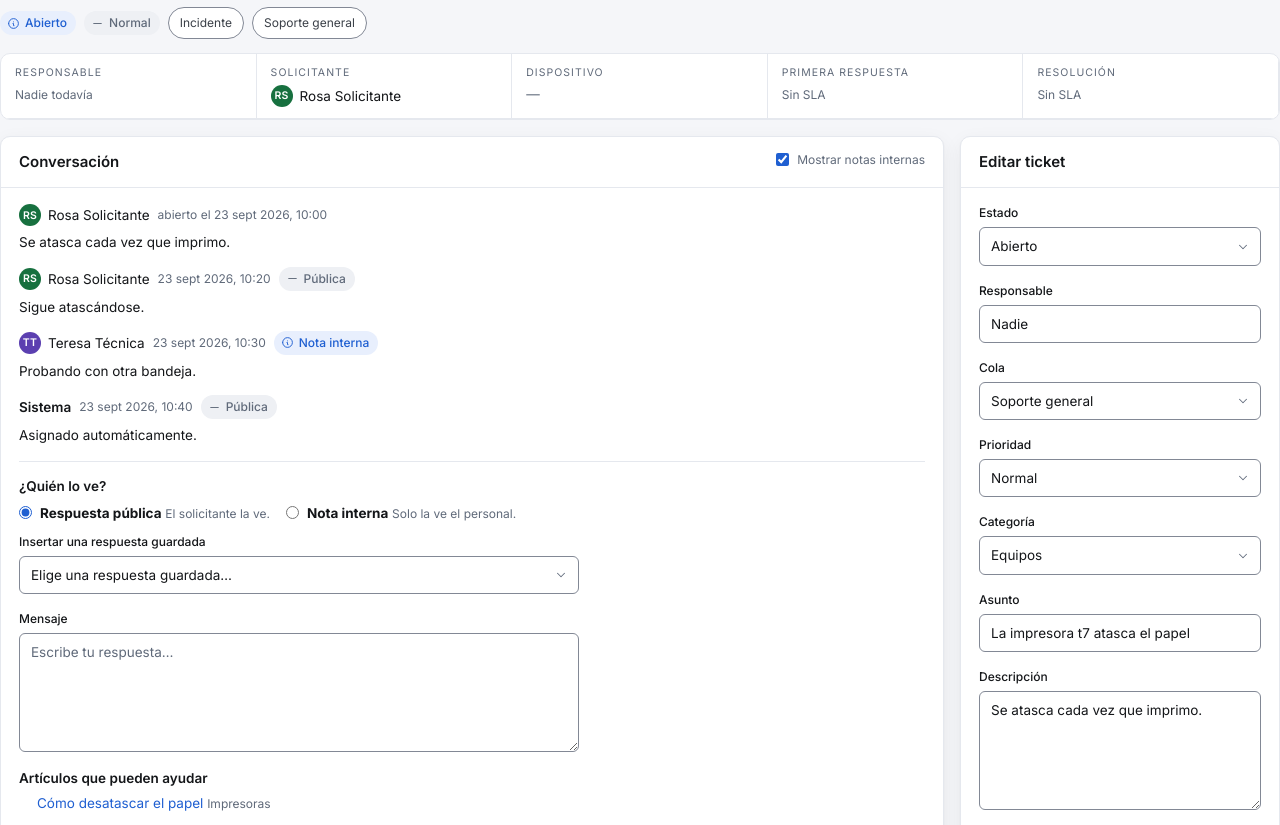
Scenario: a ticket's page in Spanish › words the close confirmation as reversible
The width and height of the screenshot is (1280, 825).
Expected: the heading "Editar ticket" is shown, top-left (979, 151), bottom-right (1065, 173)
Select "Cerrado" in the dropdown labelled "Estado". click: x=1120, y=247
box: top-left (979, 227), bottom-right (1261, 266)
(page scrolled)
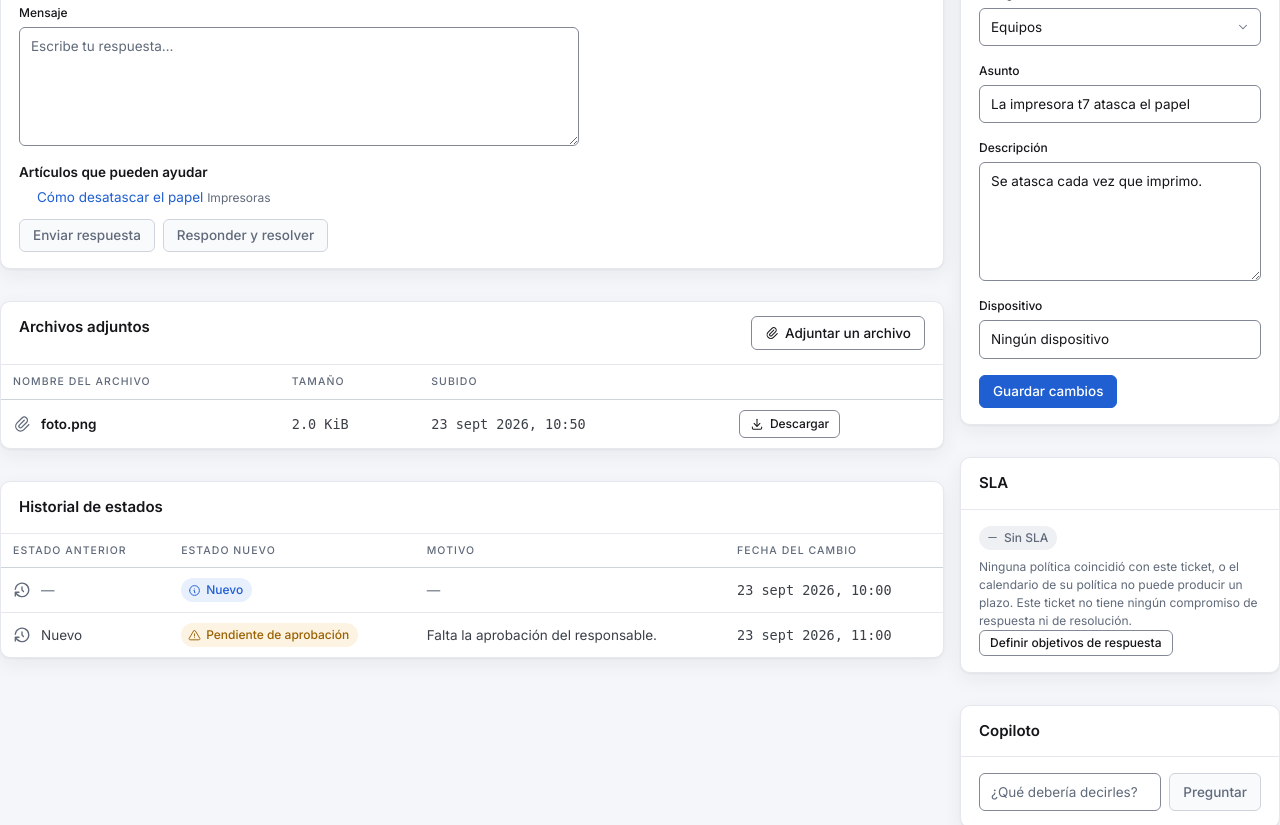
Click the button "Guardar cambios". click: x=1048, y=391
box: top-left (979, 375), bottom-right (1117, 408)
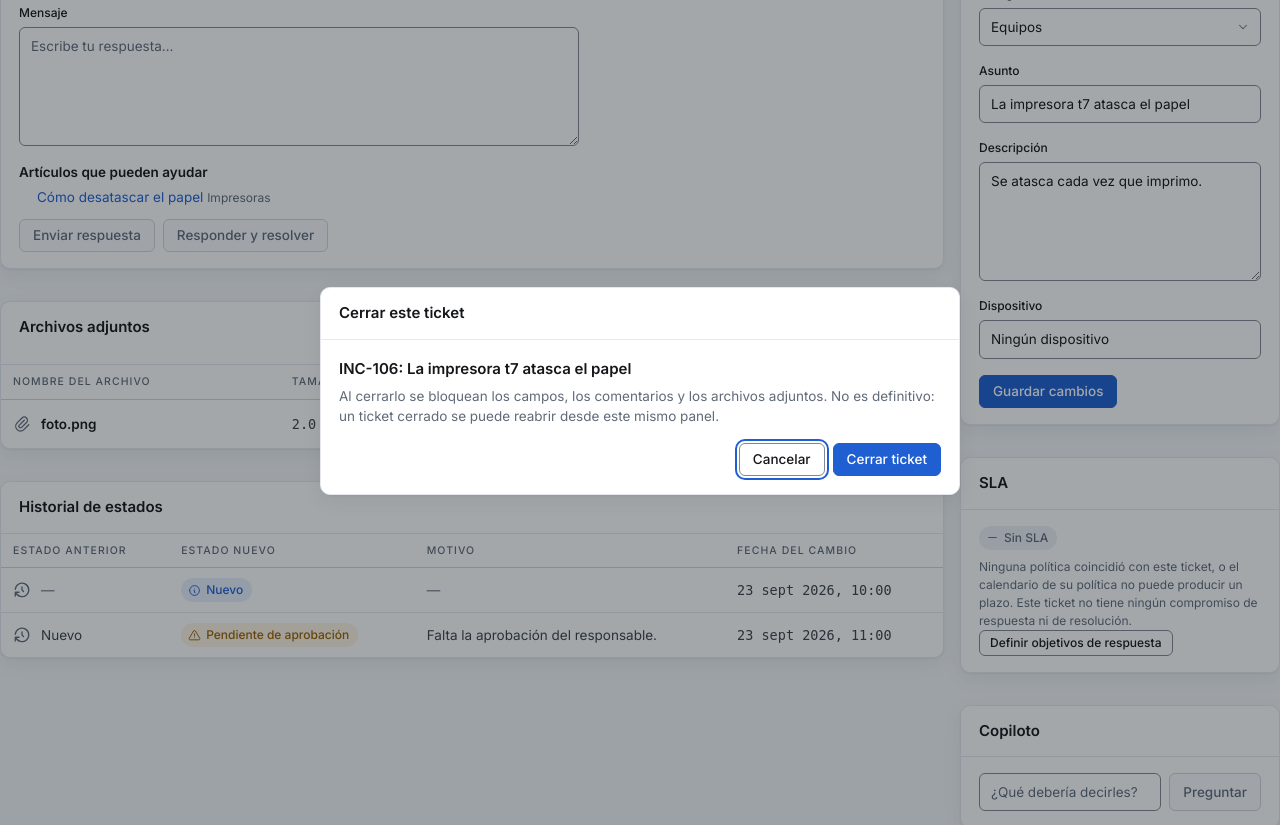
Expected: the heading "Cerrar este ticket" is shown, top-left (339, 302), bottom-right (464, 324)
Expected: the text "No es definitivo: un ticket cerrado se puede reabrir desde este mismo panel." is shown, top-left (339, 388), bottom-right (935, 424)
Expected: the button "Cerrar ticket" is shown, top-left (833, 442), bottom-right (941, 476)
